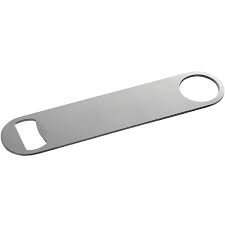bottleopener: (1, 70, 225, 157)
